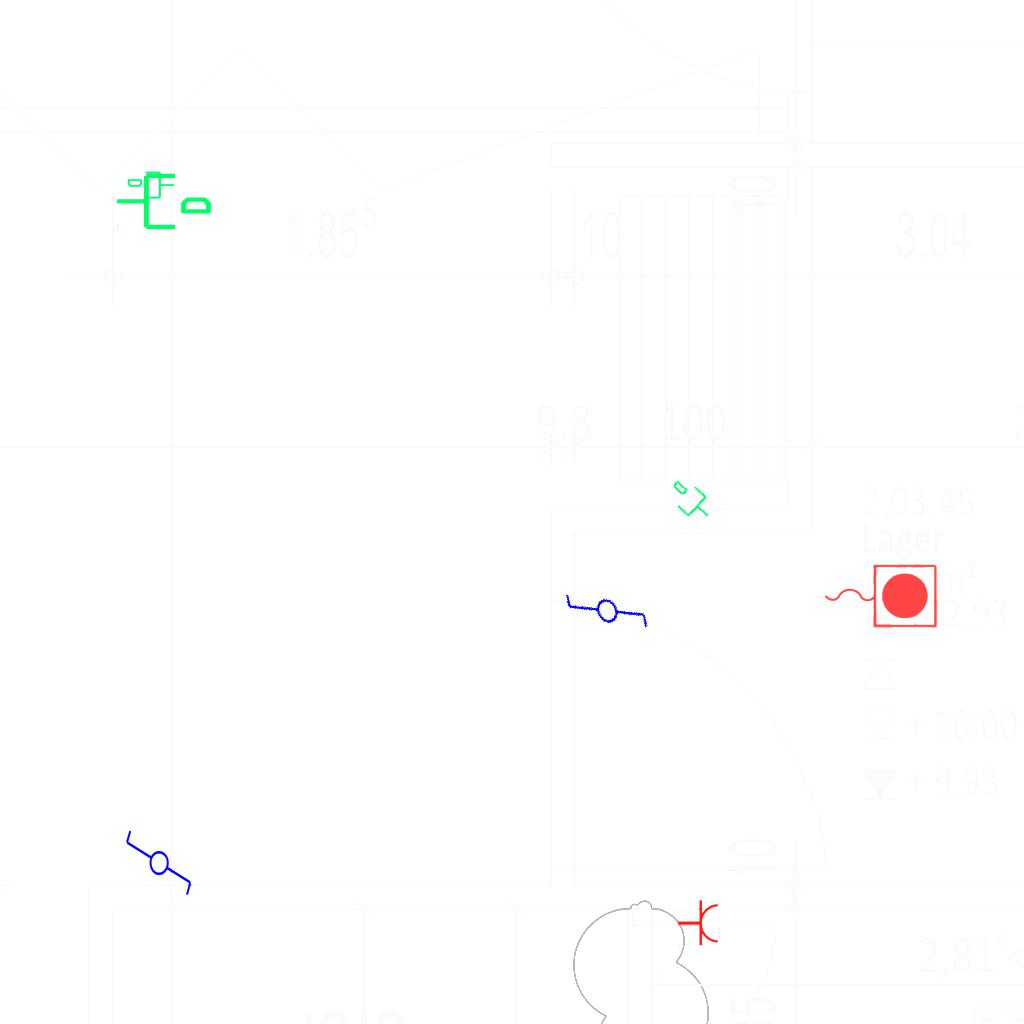Datenanschluss_einfach: (114, 165, 214, 234), (660, 471, 720, 531), (126, 169, 176, 203)
Schukosteckdose_einfach: (677, 899, 720, 949)
Wechselschalter: (558, 564, 658, 666), (122, 828, 194, 906)
Zugtaster: (819, 559, 941, 631)
